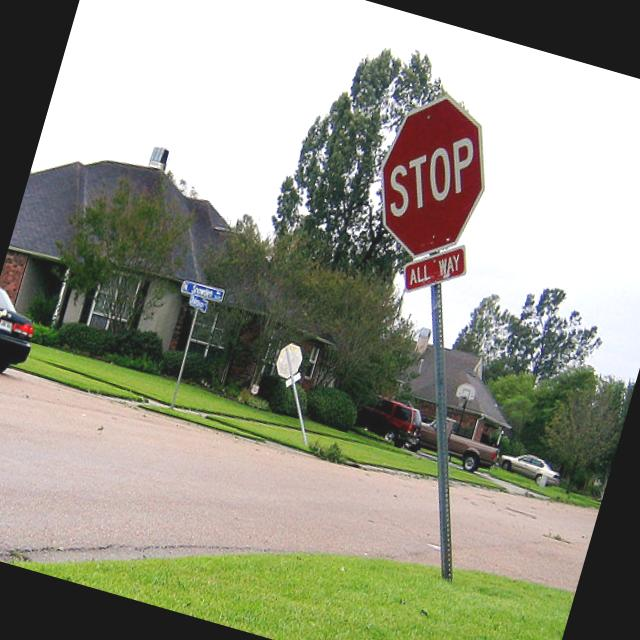Vehicle: (410, 411, 504, 479), (353, 393, 428, 452), (0, 281, 45, 378), (495, 446, 565, 490)
